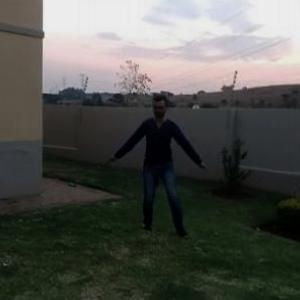land: (110, 84, 214, 240)
